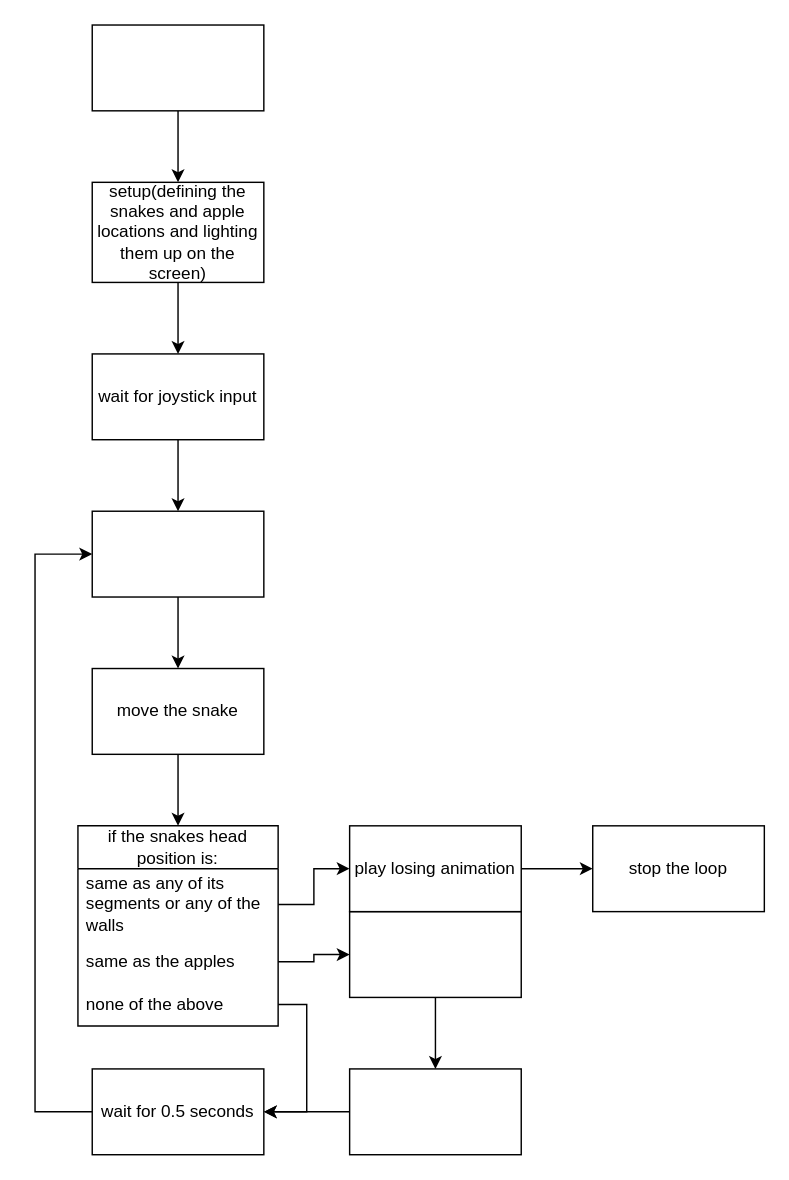
Some shapes in this 789 by 1180 pixel diagram are drawn without their labels. Each missing label, with the box of its shape:
"start snake" was called: (91, 24, 264, 111)
increase the snakes length by 1: (348, 1067, 521, 1155)
set the snakes direction based on the joystick direction: (91, 510, 264, 597)
spawn a new apple: (348, 910, 521, 997)
